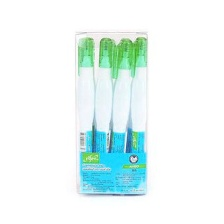correction_fluid: (92, 35, 118, 195), (108, 36, 133, 195), (76, 35, 96, 195), (128, 36, 147, 195)
plastic_box: (71, 27, 151, 200)
